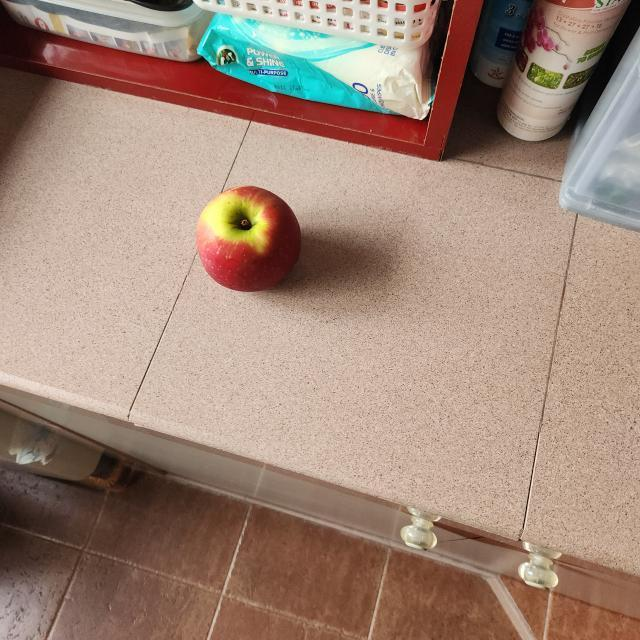apple: (188, 180, 310, 300)
